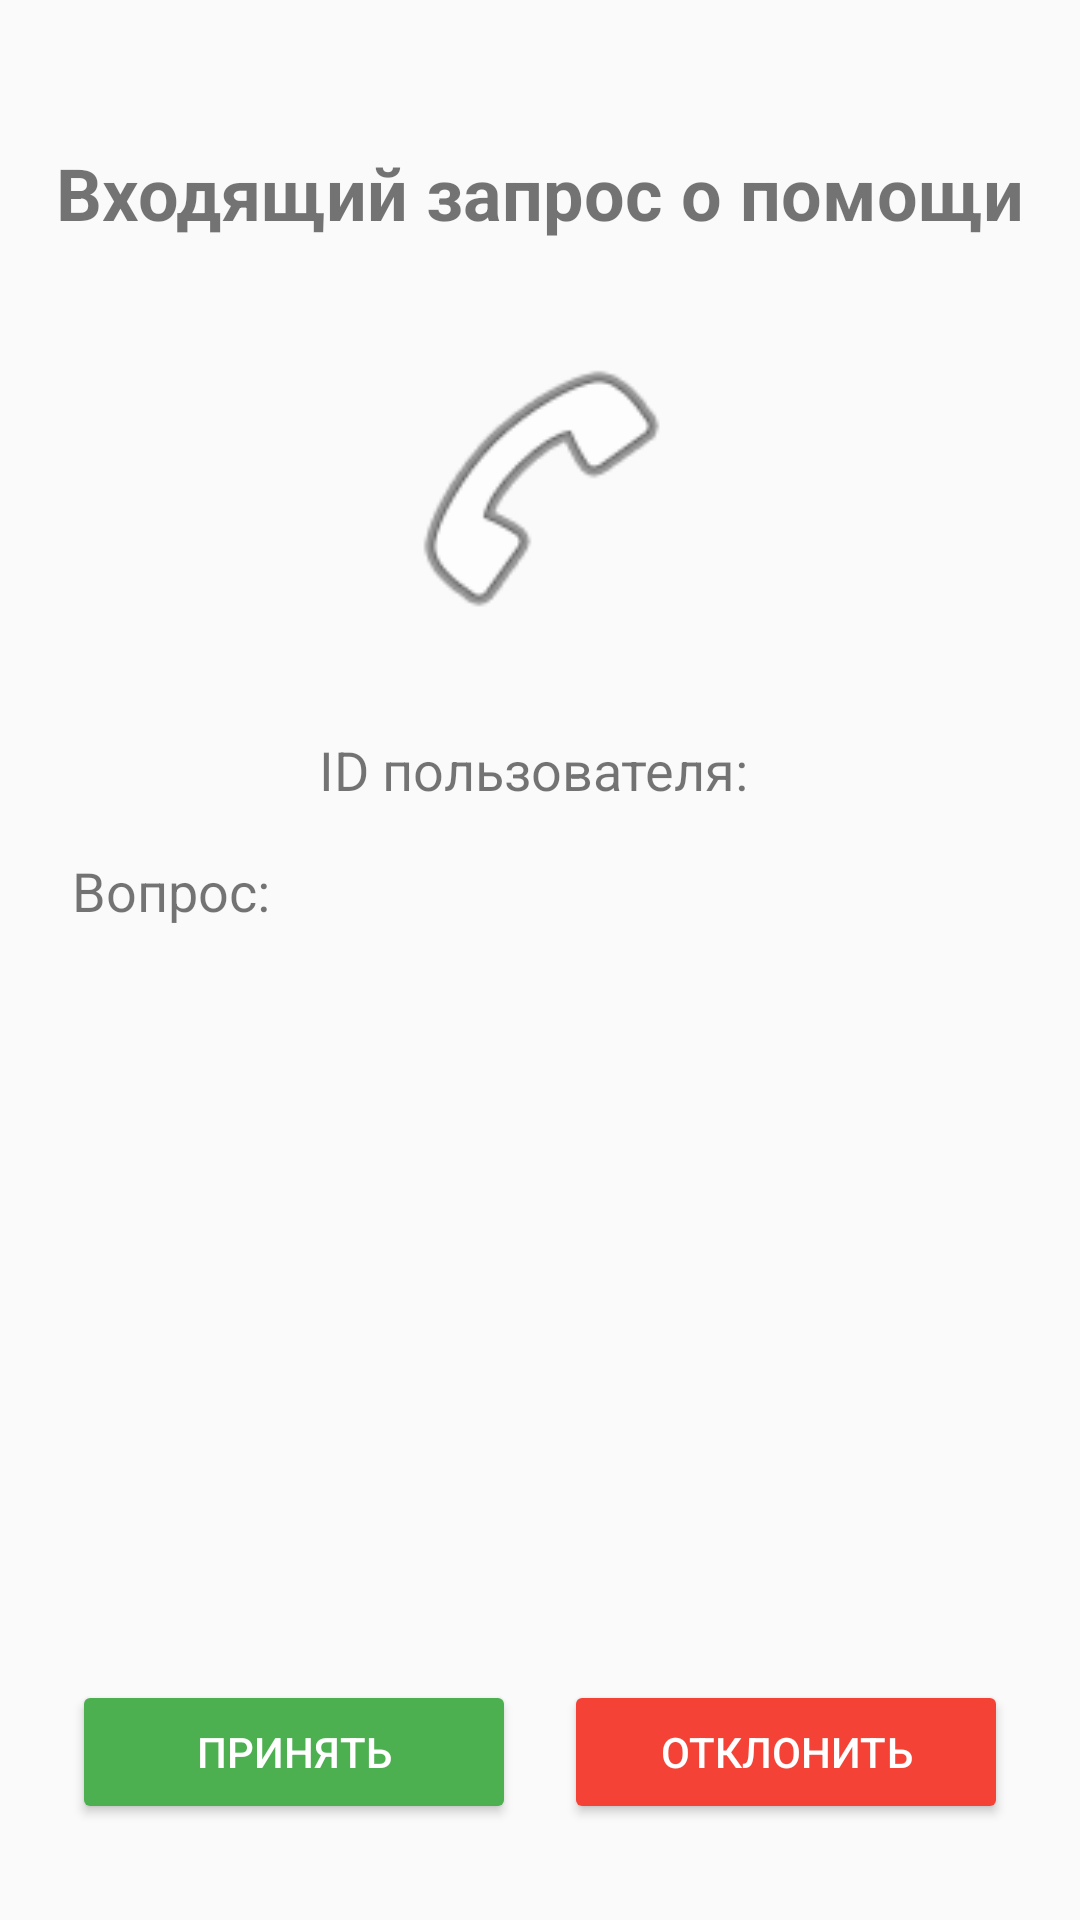

Icon bounding boxes for this 1080×1920 phone screenshot, format (x1, y1, x2, y2):
call: (424, 371, 659, 606)
